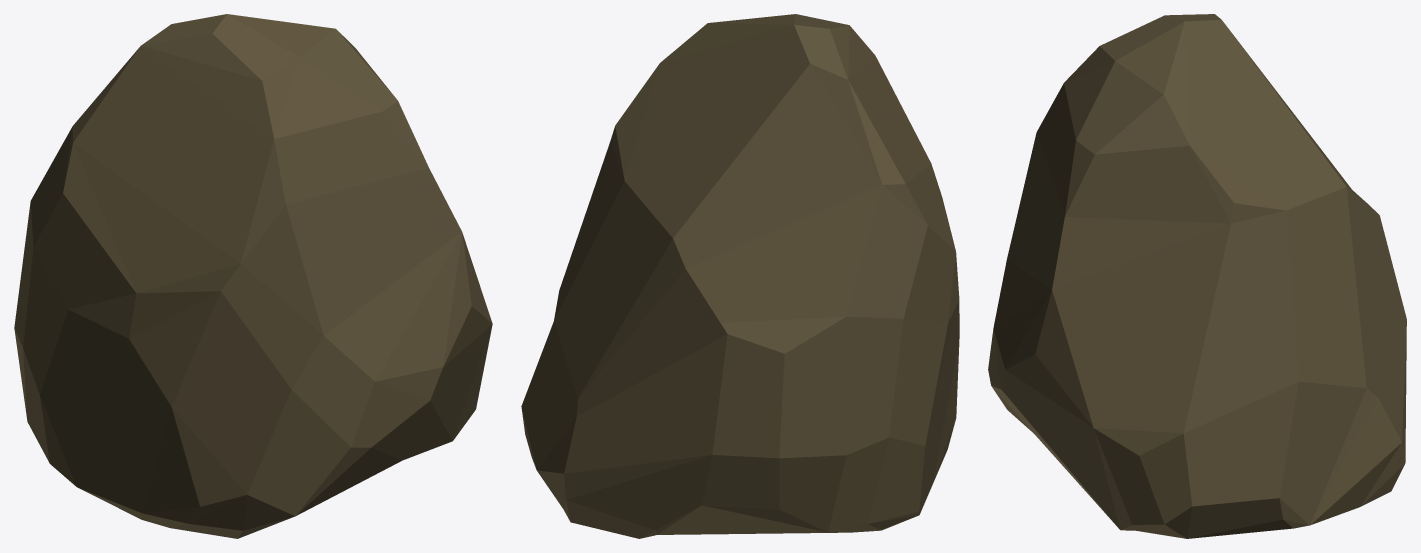
Rendered from rock02-unwrap.fbx.
3 views of the same model, side by side, from view 1: azimuth 30°, elevation 25°; view 2: azimuth 150°, elevation 25°; view 3: azimuth 270°, elevation 25° (orthographic). The views are drawn at different scales.
Parts seen in each view (by area): view 1: rock02; view 2: rock02; view 3: rock02.
Boxes of the visible parts, <box> form: rock02: <box>14,14,492,538</box>; rock02: <box>521,14,959,538</box>; rock02: <box>988,14,1406,538</box>.
Size of the model in its own units: 172 by 192 by 166.
